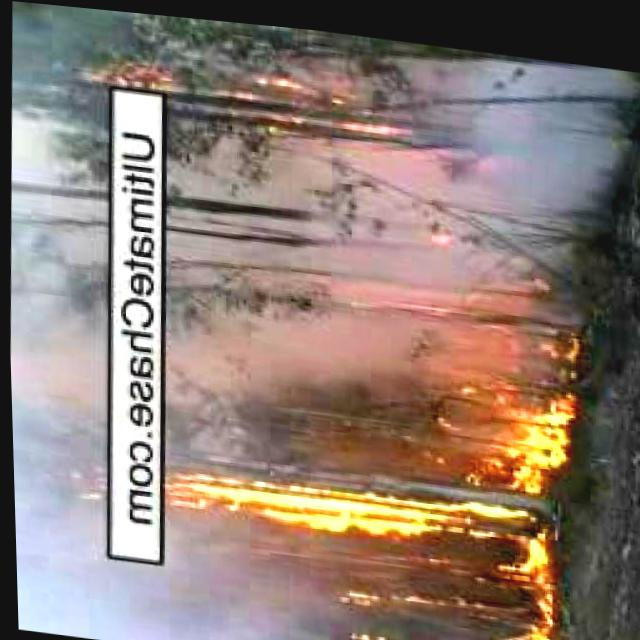Fire: (158, 451, 541, 549), (243, 53, 448, 138), (443, 377, 572, 478), (338, 577, 495, 623), (81, 53, 184, 104), (505, 554, 557, 640)
Smoke: (151, 11, 640, 506)
